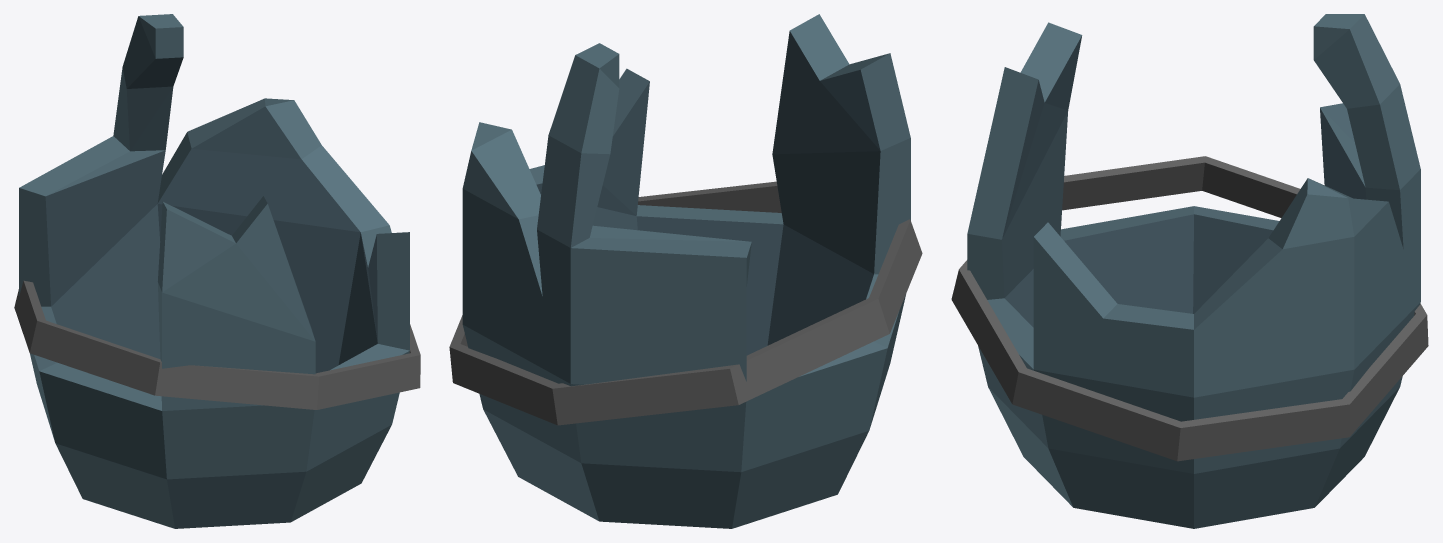
Rendered from Ship_045.glb.
3 renders of one model, left to right at view 1: azimuth 30°, elevation 25°; view 2: azimuth 150°, elevation 25°; view 3: azimuth 270°, elevation 25°, orthographic. The views are drawn at different scales.
Parts seen in each view (by area): view 1: Ship_045; view 2: Ship_045; view 3: Ship_045.
Part boxes in pixels (left/top/right/bottom): Ship_045: left=14, top=14, right=420, bottom=528; Ship_045: left=449, top=14, right=922, bottom=528; Ship_045: left=951, top=14, right=1428, bottom=528.
Bounding box in the file's own units: 0.9104 × 0.9396 × 0.9173.
Materials: 1 (1 with a texture image).
